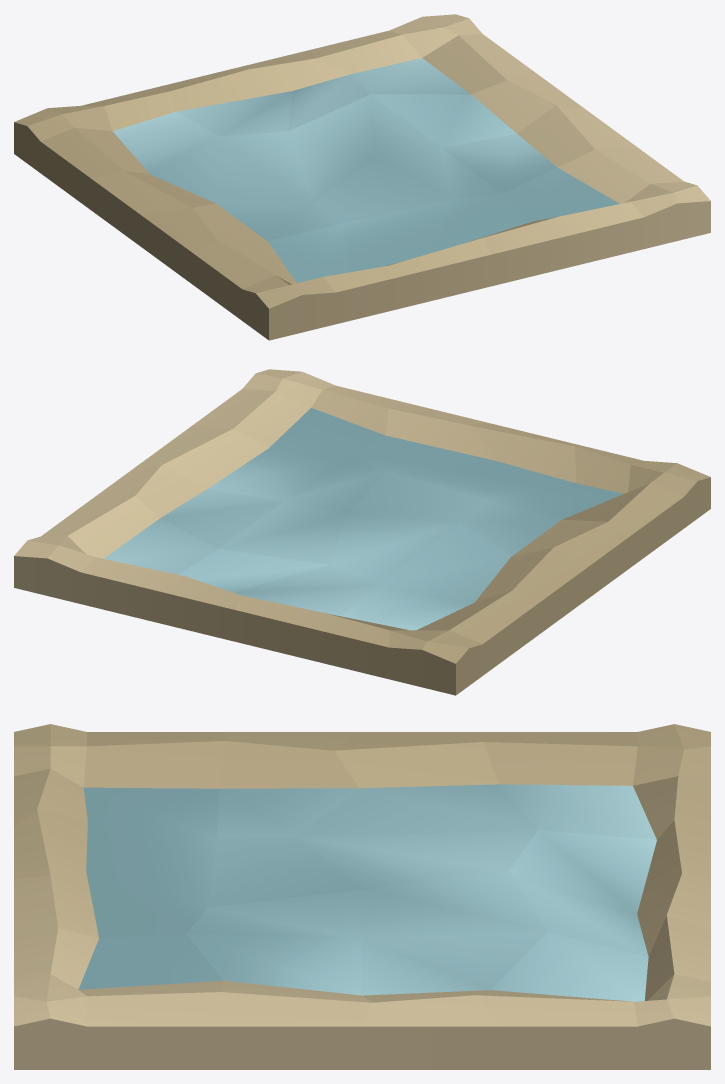
The model's file is Farmland_Water_4X4.fbx.
3 renders of one model, top to bottom at view 1: azimuth 30°, elevation 25°; view 2: azimuth 150°, elevation 25°; view 3: azimuth 270°, elevation 25°, orthographic. The views are drawn at different scales.
Parts seen in each view (by area): view 1: Farmland_Water_4X4.001; view 2: Farmland_Water_4X4.001; view 3: Farmland_Water_4X4.001.
Boxes of the visible parts, x1,y1,x2,y2 form: Farmland_Water_4X4.001: [14, 14, 710, 340]; Farmland_Water_4X4.001: [14, 369, 710, 695]; Farmland_Water_4X4.001: [14, 724, 710, 1069].
Bounding box in the file's own units: 4 × 0.325 × 4.
Materials: 1 (1 with a texture image).
